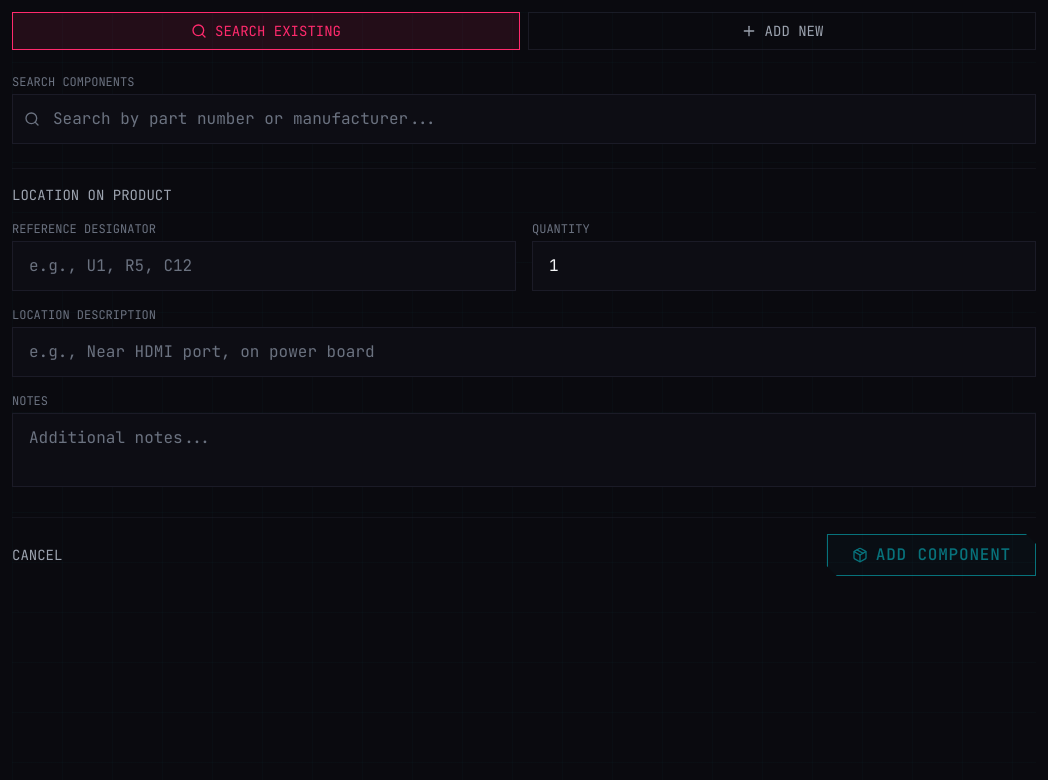
Test: AddComponentForm › mode switching › switches to new component mode
Click the button "ADD NEW". click: (782, 31)
box: [528,12,1036,50]
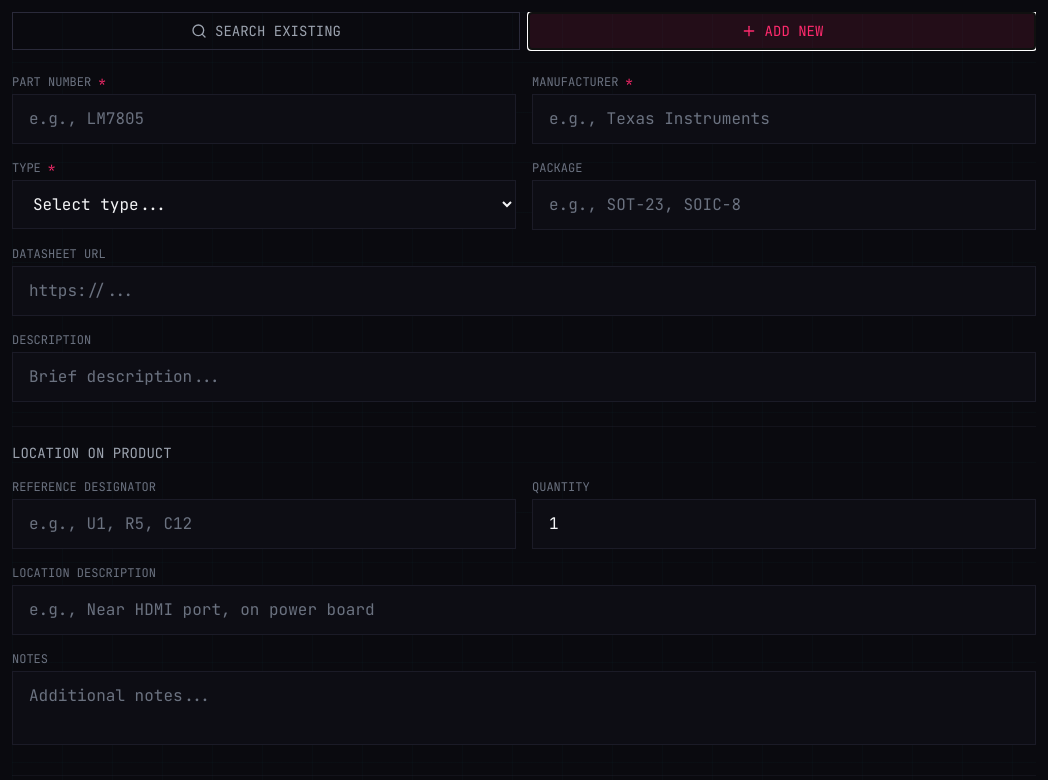
Expected: the field with placeholder "e.g., LM7805" is shown, [12,94,516,144]
Expected: the field with placeholder "e.g., Texas Instruments" is shown, [532,94,1036,144]
